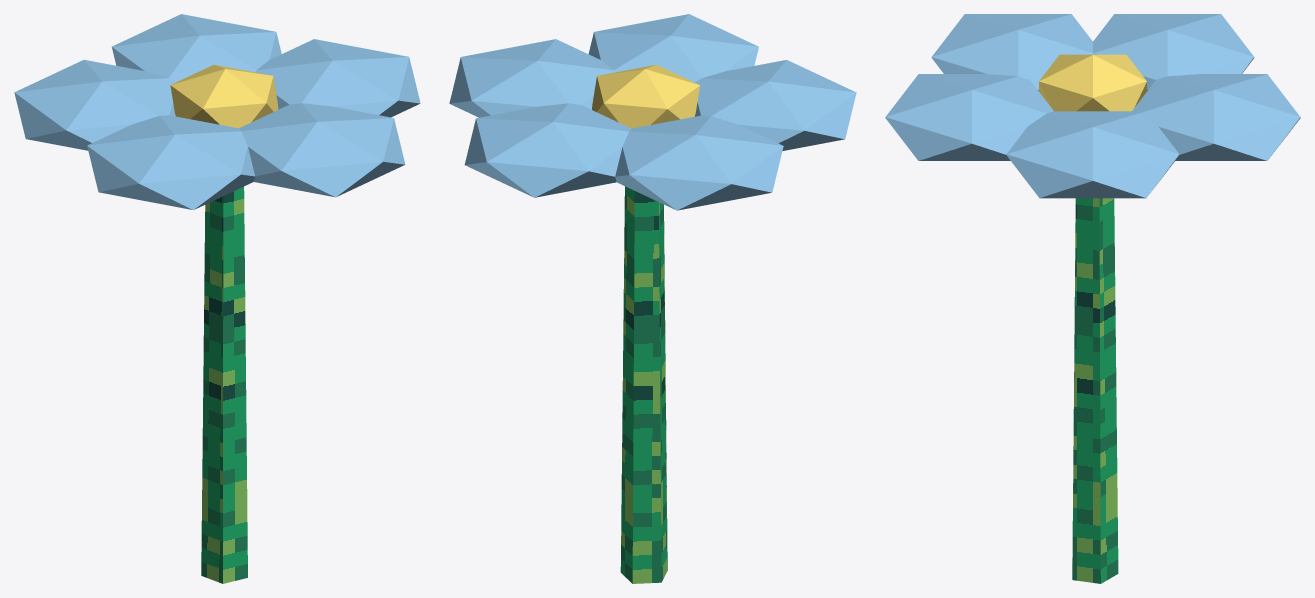
File: a06_flor_grande_3.glb
The picture shows the model from 3 angles, left to right: view 1: azimuth 30°, elevation 25°; view 2: azimuth 150°, elevation 25°; view 3: azimuth 270°, elevation 25°; orthographic projection. The views are drawn at different scales.
Parts seen in each view (by area): view 1: a06_flor_grande_3; view 2: a06_flor_grande_3; view 3: a06_flor_grande_3.
Boxes of the visible parts, bbox=[...] form: a06_flor_grande_3: bbox=[14, 14, 420, 583]; a06_flor_grande_3: bbox=[449, 14, 856, 583]; a06_flor_grande_3: bbox=[885, 14, 1300, 583].
Bounding box in the file's own units: 1.62 × 2.25 × 1.63.
3 materials, 1 textured.
